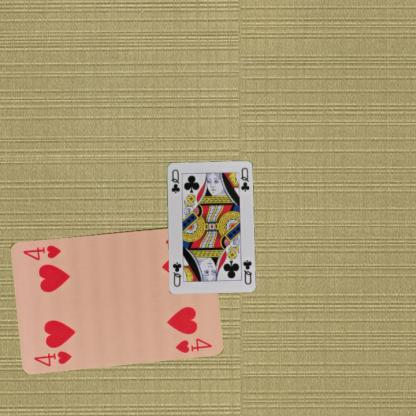4h: (32, 348, 73, 367)
Qc: (240, 257, 253, 286), (168, 167, 181, 194)
